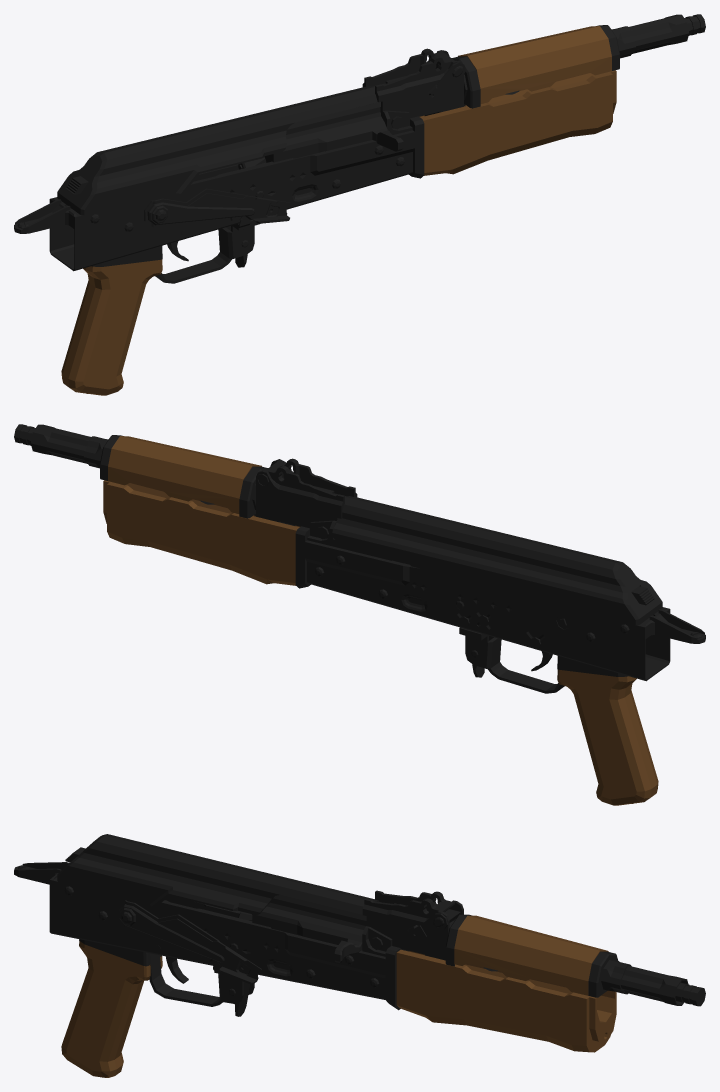
Rendered from rpk_7.62.glb.
3 views of the same model, one above another, from view 1: azimuth 30°, elevation 25°; view 2: azimuth 150°, elevation 25°; view 3: azimuth 330°, elevation 25° (orthographic).
Visible parts, largest first — view 1: rpk762 receiver_3, rpk762 handguard_7 (×2), rpk762 dust cover_9, rpk762 pistol grip_5 (×2), ak 76239 bolt carrier_10, rpk762 selector_2, rpk762 gas tube_8; view 2: rpk762 receiver_3, rpk762 handguard_7 (×2), rpk762 dust cover_9, rpk762 pistol grip_5 (×2), rpk762 gas tube_8; view 3: rpk762 receiver_3, rpk762 handguard_7 (×2), rpk762 dust cover_9, rpk762 pistol grip_5 (×2), ak 76239 bolt carrier_10, rpk762 selector_2, rpk762 gas tube_8.
Part boxes in pixels (x1,y1,x2,y2): rpk762 receiver_3: (14, 48, 465, 283); rpk762 handguard_7 (×2): (409, 26, 616, 178); rpk762 dust cover_9: (57, 86, 377, 215); rpk762 pistol grip_5 (×2): (61, 246, 162, 395); ak 76239 bolt carrier_10: (238, 14, 705, 169); rpk762 selector_2: (144, 188, 290, 227); rpk762 gas tube_8: (452, 14, 689, 108); rpk762 receiver_3: (256, 458, 705, 693); rpk762 handguard_7 (×2): (103, 436, 310, 588); rpk762 dust cover_9: (332, 496, 662, 625); rpk762 pistol grip_5 (×2): (557, 656, 658, 805); rpk762 gas tube_8: (30, 424, 267, 518); rpk762 receiver_3: (14, 847, 463, 1006); rpk762 handguard_7 (×2): (385, 915, 616, 1052); rpk762 dust cover_9: (57, 834, 378, 915); rpk762 pistol grip_5 (×2): (61, 939, 162, 1077); ak 76239 bolt carrier_10: (238, 895, 705, 1006); rpk762 selector_2: (117, 900, 261, 984); rpk762 gas tube_8: (445, 914, 688, 1005).
Size of the model in its own units: 5.26 by 1.9 by 0.6379.
